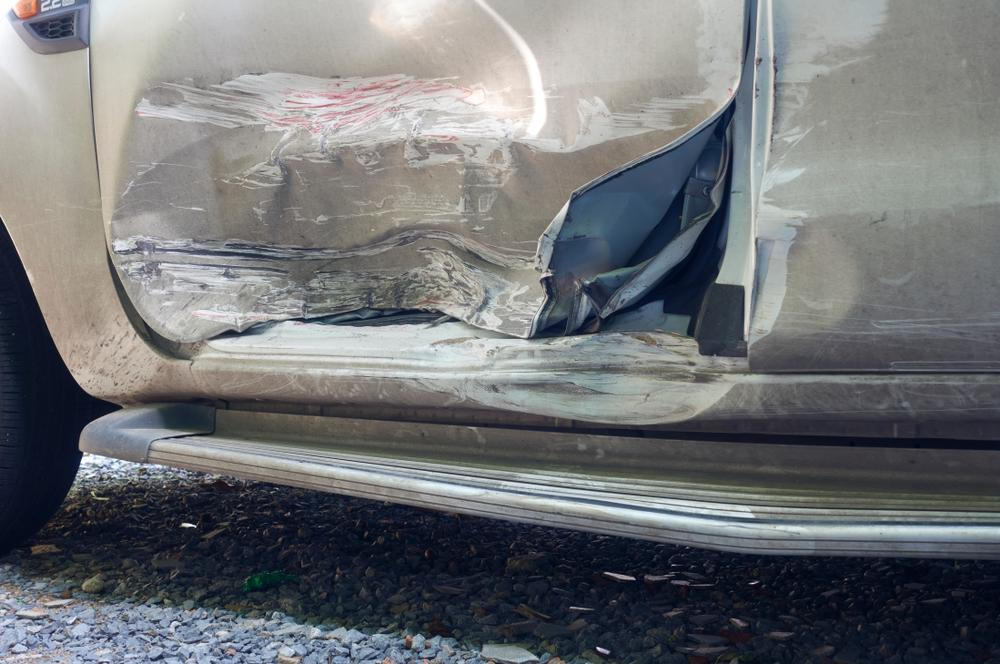dent: (110, 0, 554, 343), (475, 331, 747, 422), (752, 219, 860, 333)
scratch: (536, 0, 751, 157), (872, 302, 1000, 368)
